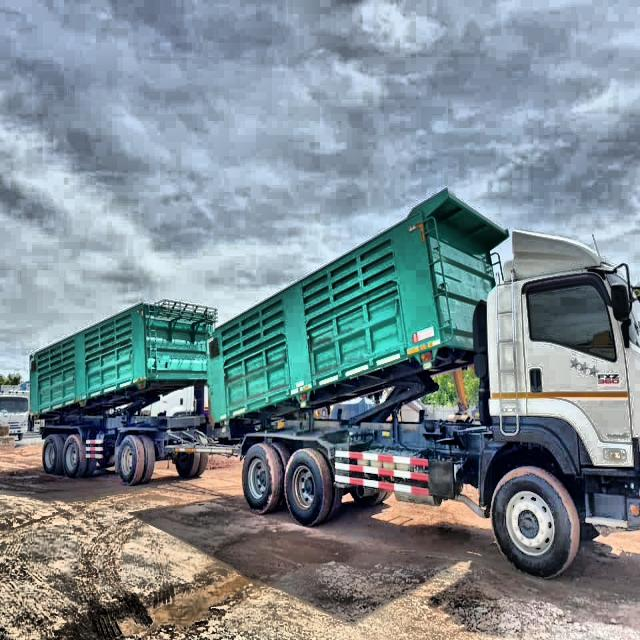trailer: (26, 184, 640, 579)
